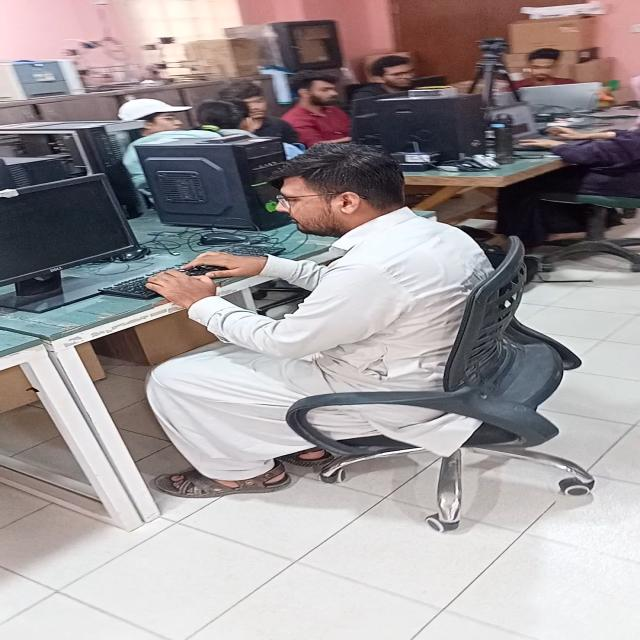dress: (150, 203, 502, 475)
